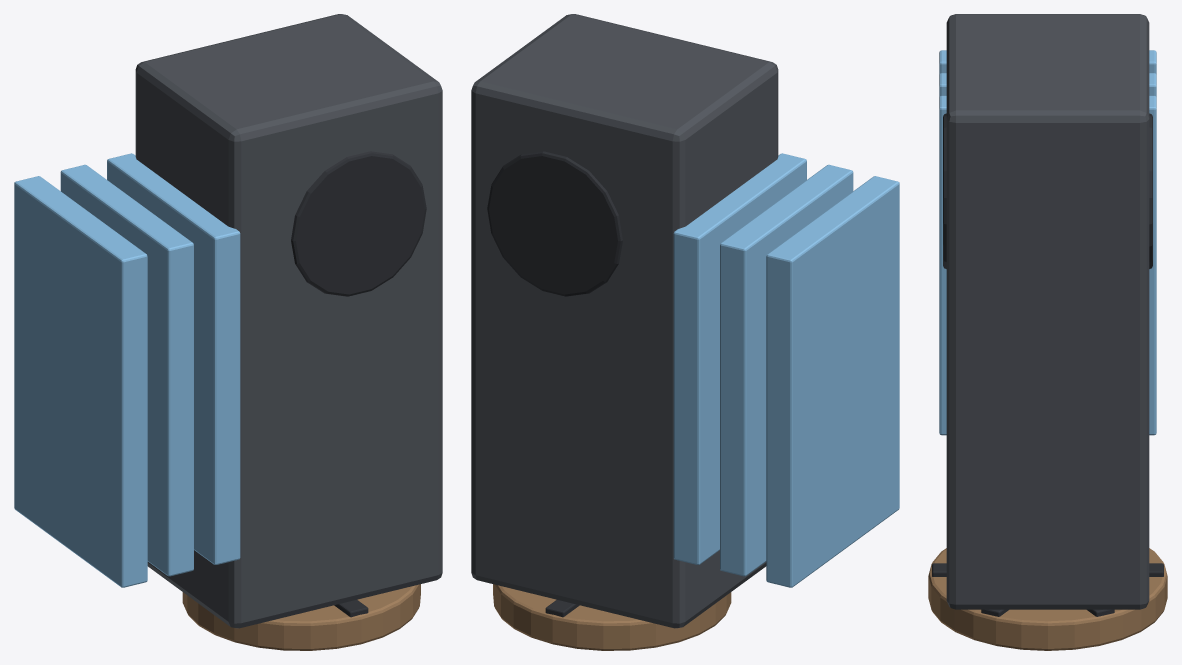
The model's file is module_thruster_magnetic.fbx.
3 views of the same model, side by side, from view 1: azimuth 30°, elevation 25°; view 2: azimuth 150°, elevation 25°; view 3: azimuth 270°, elevation 25° (orthographic).
Parts seen in each view (by area): view 1: SM_Module_ThrusterMagnetic; view 2: SM_Module_ThrusterMagnetic; view 3: SM_Module_ThrusterMagnetic.
Boxes of the visible parts, left/top/right/bottom form: SM_Module_ThrusterMagnetic: left=14, top=14, right=442, bottom=650; SM_Module_ThrusterMagnetic: left=471, top=14, right=899, bottom=650; SM_Module_ThrusterMagnetic: left=928, top=14, right=1167, bottom=650.
Size of what is drawn, in the model's own units: 53.8 by 83 by 33.
